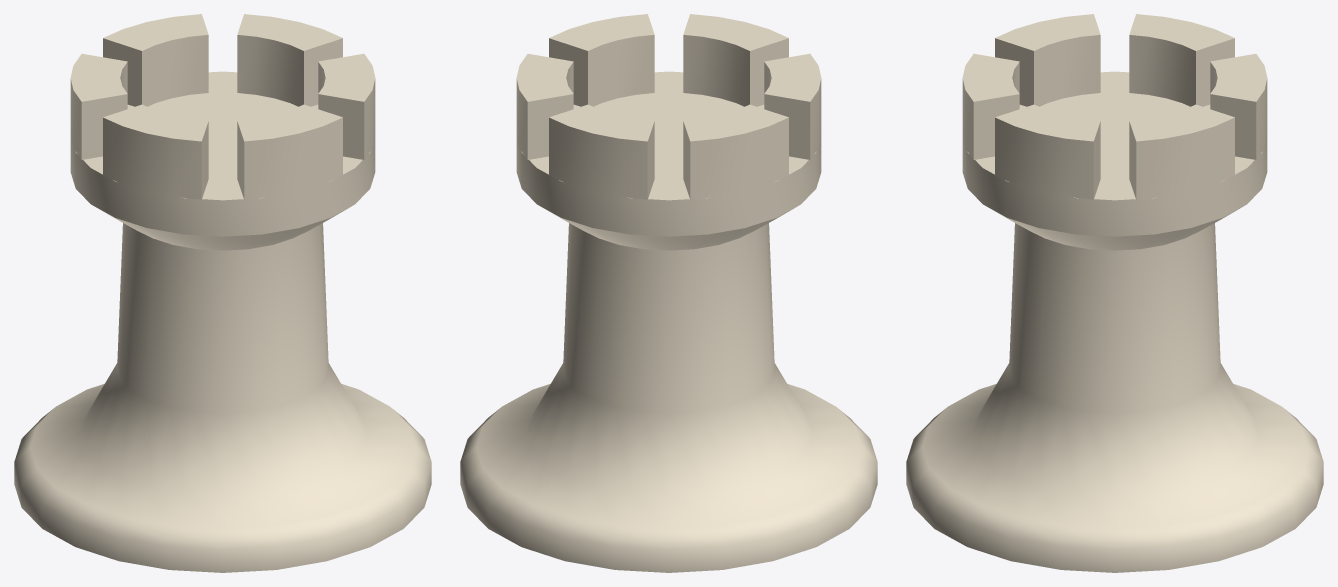
The model's file is white_rook.glb.
The picture shows the model from 3 angles, left to right: view 1: azimuth 30°, elevation 25°; view 2: azimuth 150°, elevation 25°; view 3: azimuth 270°, elevation 25°; orthographic projection.
Visible parts, largest first — view 1: white_rook; view 2: white_rook; view 3: white_rook.
Boxes of the visible parts, x1,y1,x2,y2 form: white_rook: (14,14,431,572); white_rook: (460,14,877,572); white_rook: (906,14,1323,572).
Bounding box in the file's own units: 0.026 × 0.028 × 0.026.
